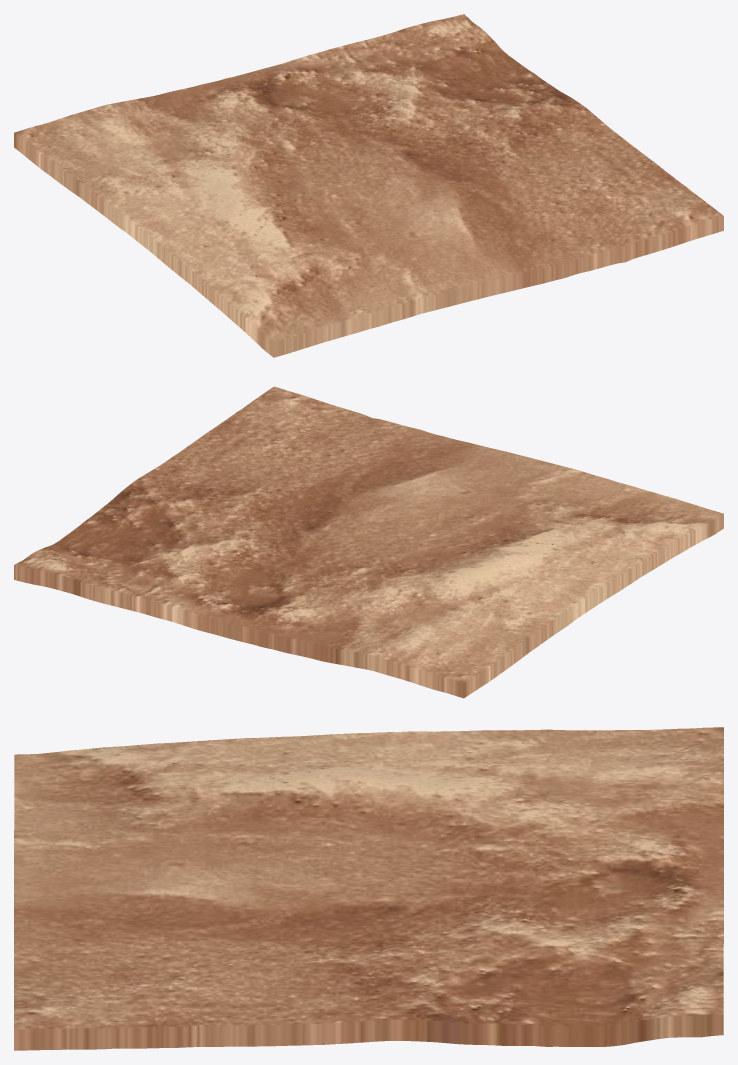
3 renders of one model, top to bottom at view 1: azimuth 30°, elevation 25°; view 2: azimuth 150°, elevation 25°; view 3: azimuth 270°, elevation 25°, orthographic. The views are drawn at different scales.
Parts seen in each view (by area): view 1: L6_19_14; view 2: L6_19_14; view 3: L6_19_14.
Boxes of the visible parts, x1=… form: L6_19_14: x1=14, y1=14, x2=723, y2=357; L6_19_14: x1=14, y1=386, x2=723, y2=698; L6_19_14: x1=14, y1=727, x2=723, y2=1050.
Bounding box in the file's own units: 225 × 21.22 × 225.
1 material, 1 textured.
